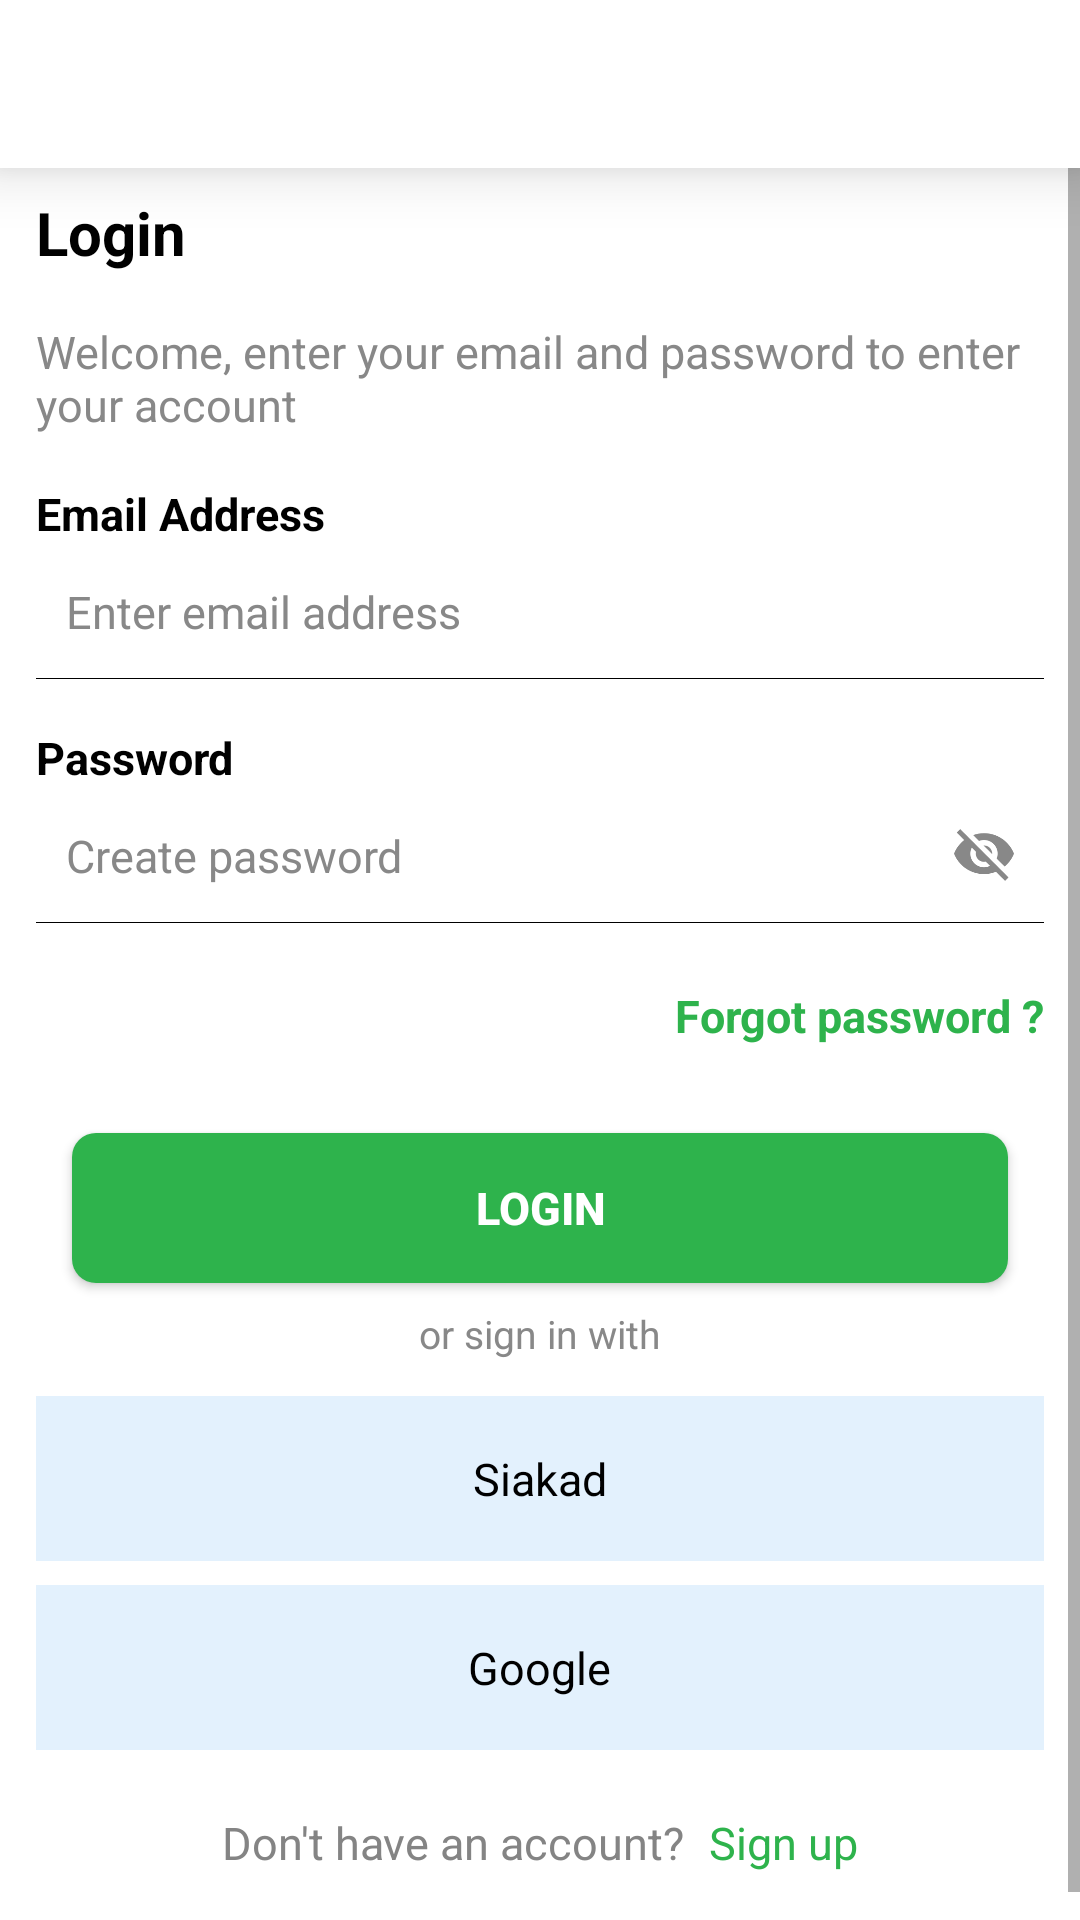

Where icons sit on this 1080px x 1920px app screen, as (x1, y1, x2, y2):
view password: (954, 829, 1014, 881)
